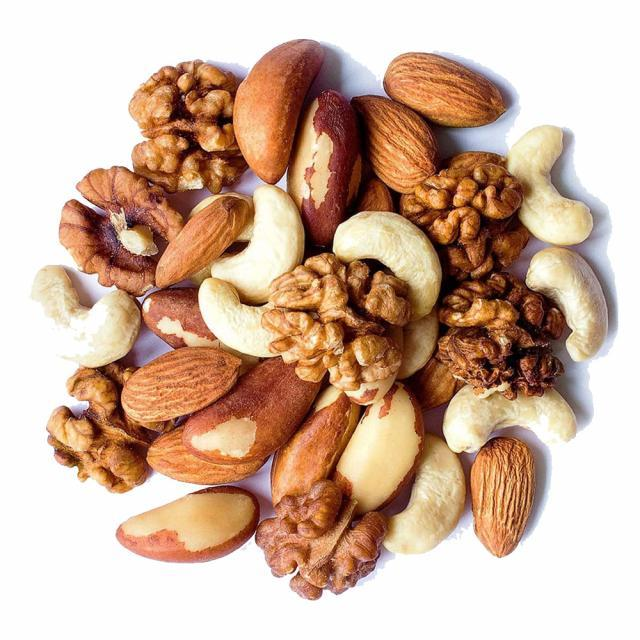Frutta secca: (34, 41, 613, 583)
